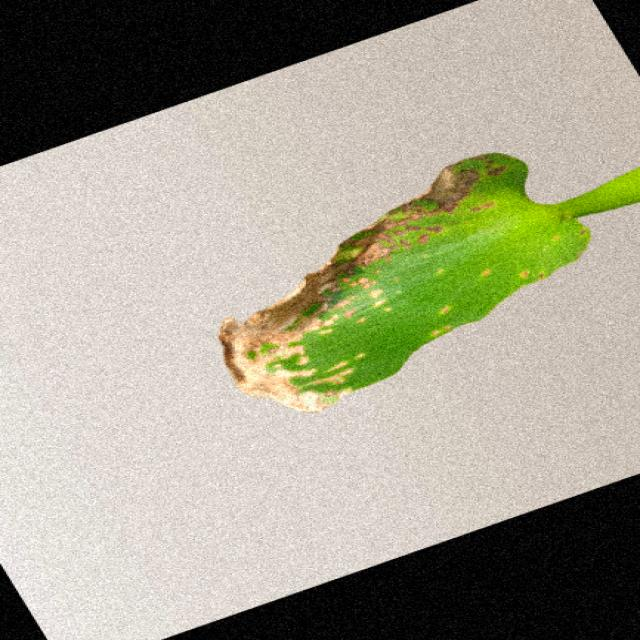daun berpenyakit bercak: (218, 154, 638, 411)
